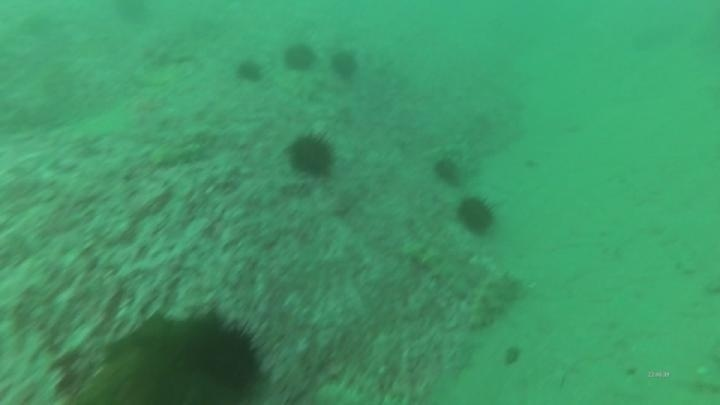echinus: (177, 312, 267, 399), (285, 130, 338, 180), (454, 194, 499, 239), (430, 154, 466, 189), (281, 41, 318, 75), (328, 48, 361, 82), (111, 1, 153, 26), (233, 57, 266, 85)
holothurian: (402, 235, 492, 300), (463, 267, 525, 333), (146, 140, 212, 170)
